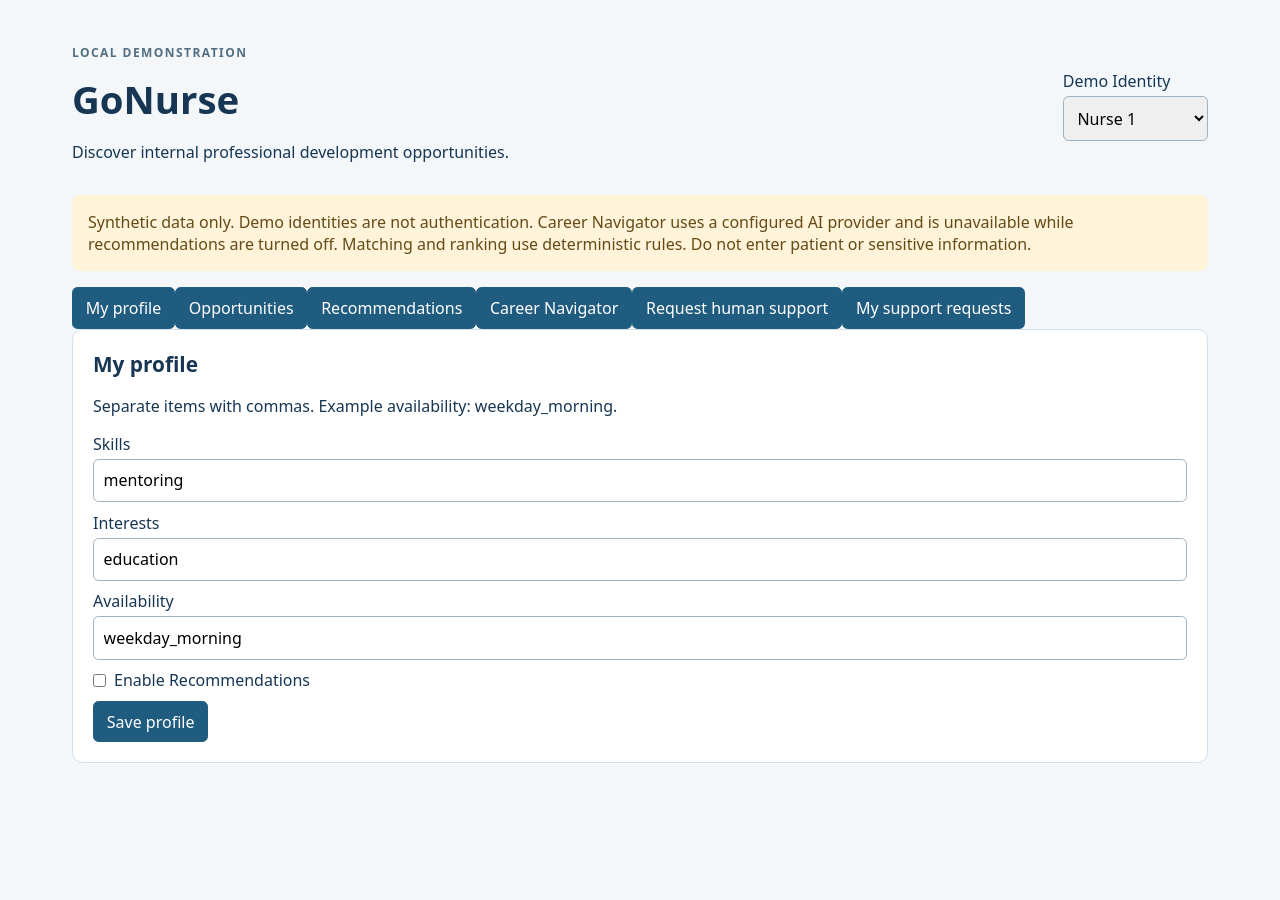
Test case: Navigator conversations › requires a saved opt-in and links directly to the profile setting
Expected: the field labelled "skills" holds "mentoring", [93,459,1187,502]
Click the tab "Career Navigator" at point(554, 308), box [476,287,632,329]
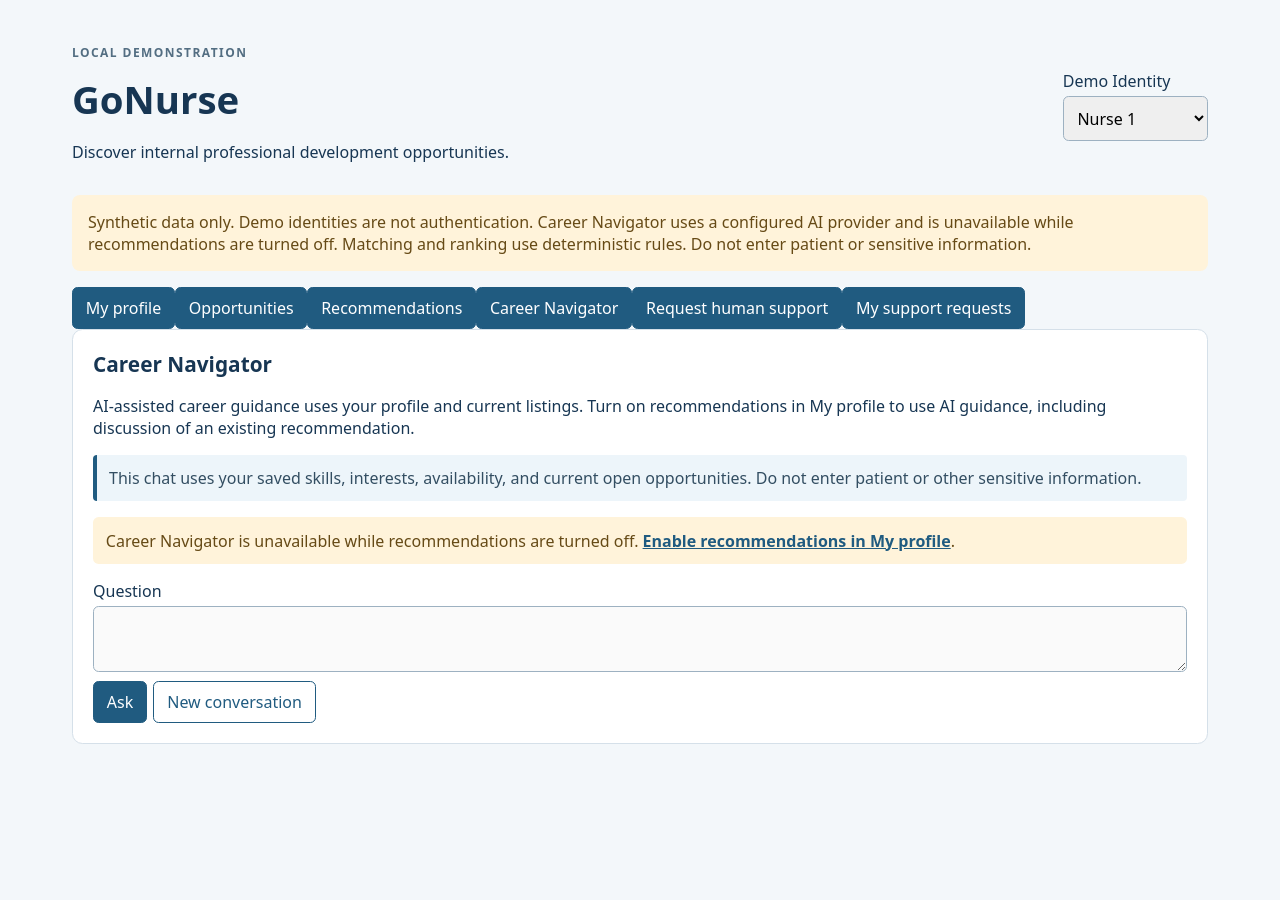
Result: the text box labelled "Question" is disabled at [93,606,1187,672]
Result: the text "Career Navigator is unavailable while recommendations are turned off" is shown at [106,530,638,552]
Result: the button "Ask" is disabled at [93,681,147,723]
Click the link "Enable recommendations in My profile" at point(797, 541), box [643,530,951,552]
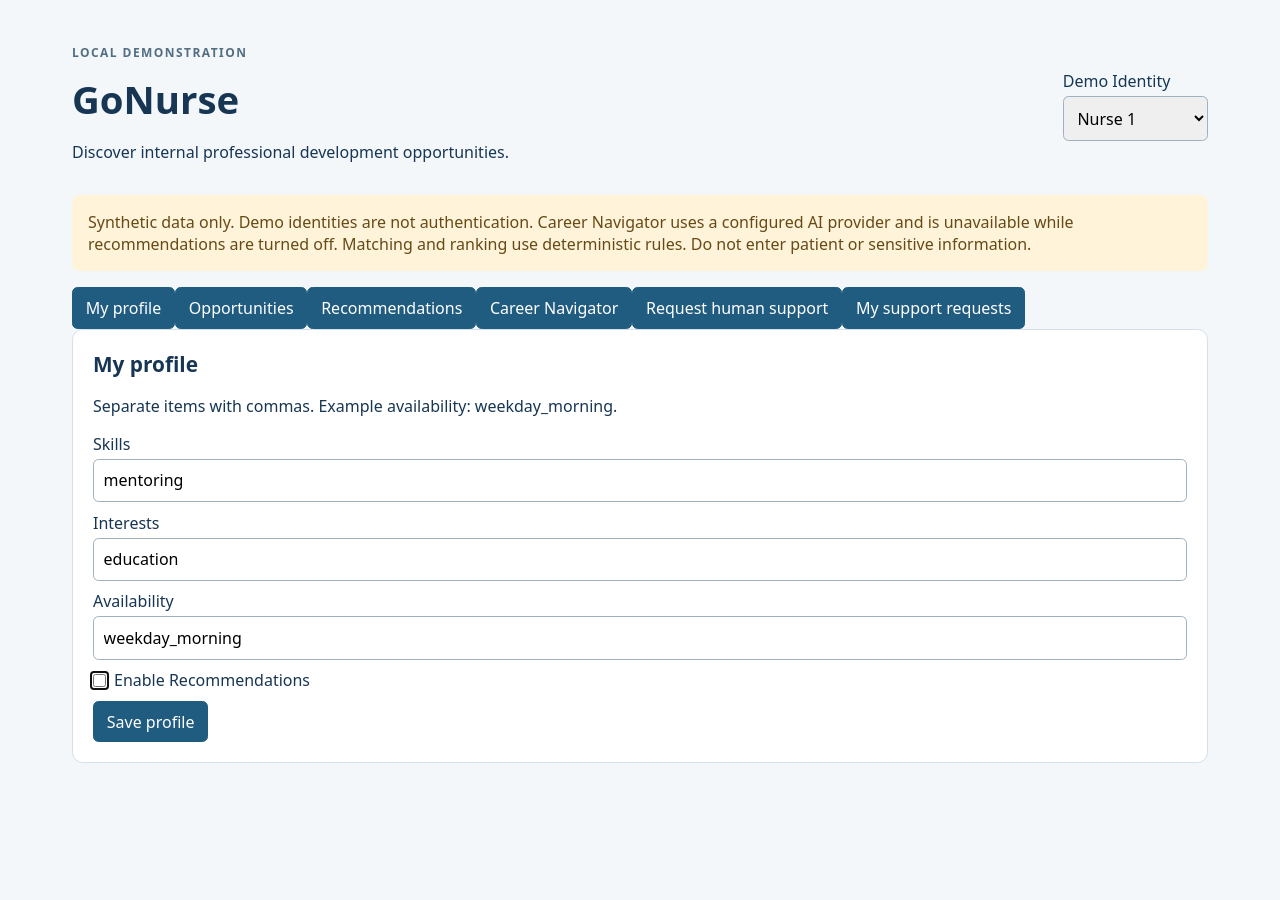
Click the checkbox labelled "Enable recommendations" at point(100, 680), box [93,674,106,687]
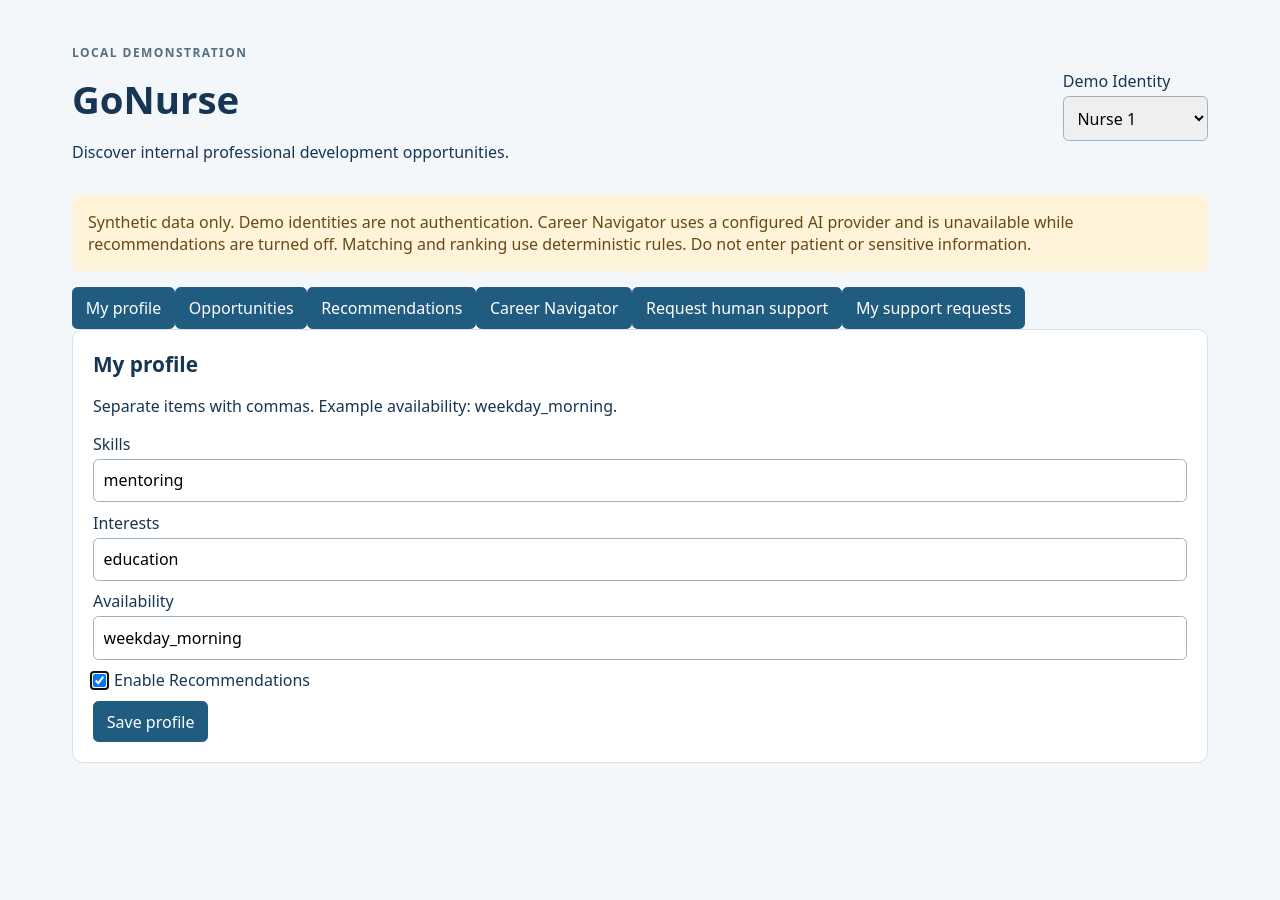
Click the button "Save profile" at point(151, 722), box [93,701,208,742]
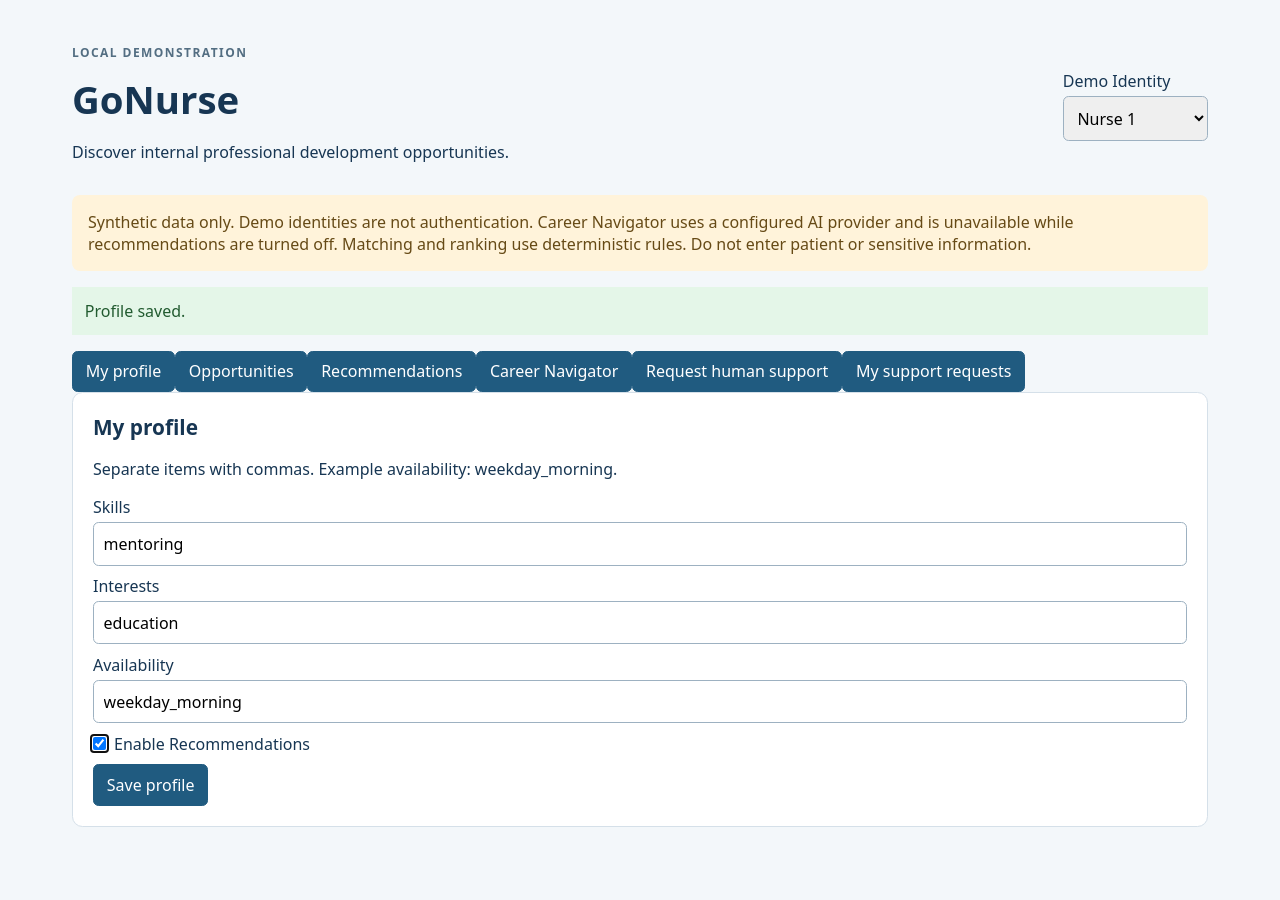
Result: the text "Profile saved." is shown at [72,287,1208,335]
Click the tab "Career Navigator" at point(554, 371), box [476,351,632,392]
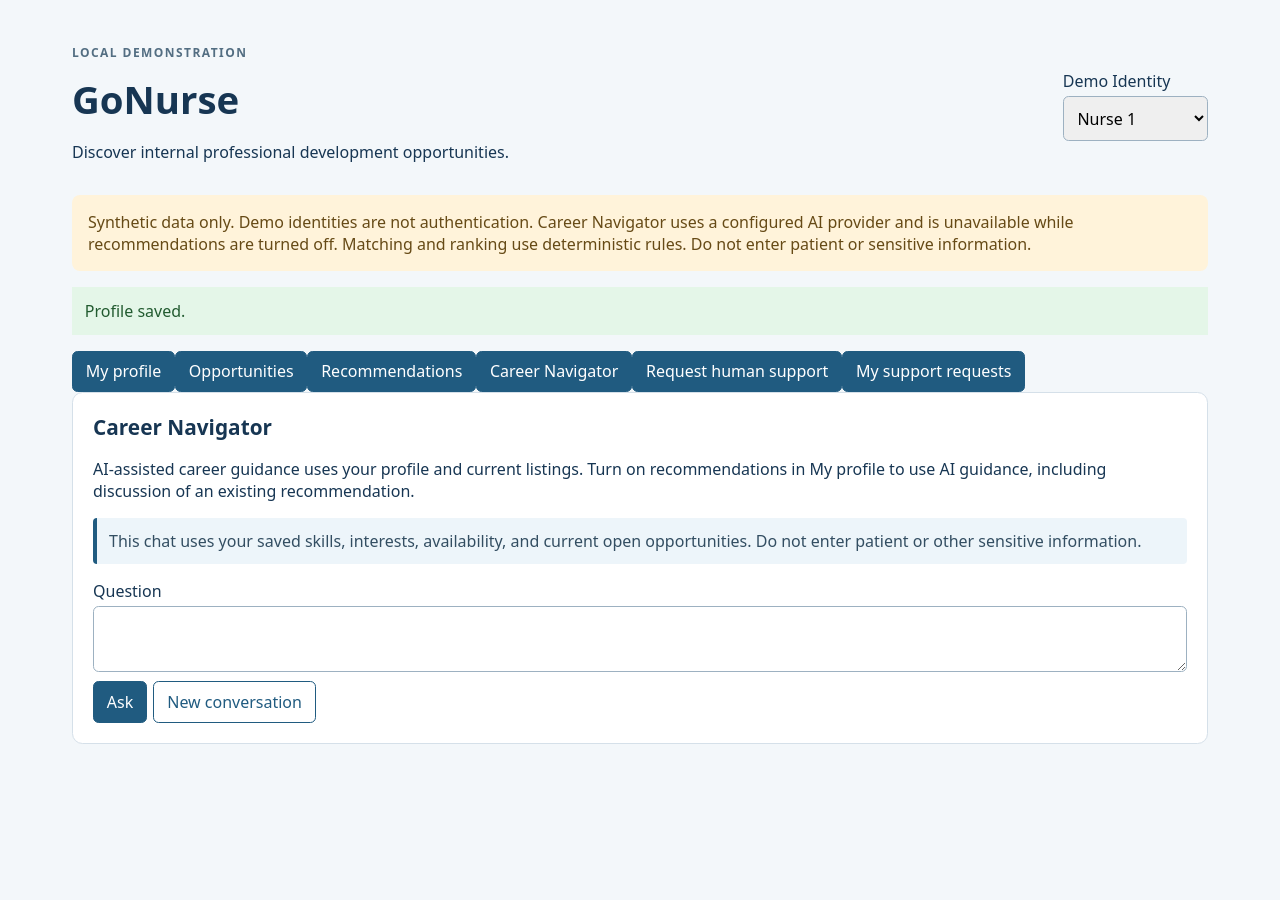
Result: the text box labelled "Question" is enabled at [93,606,1187,672]
